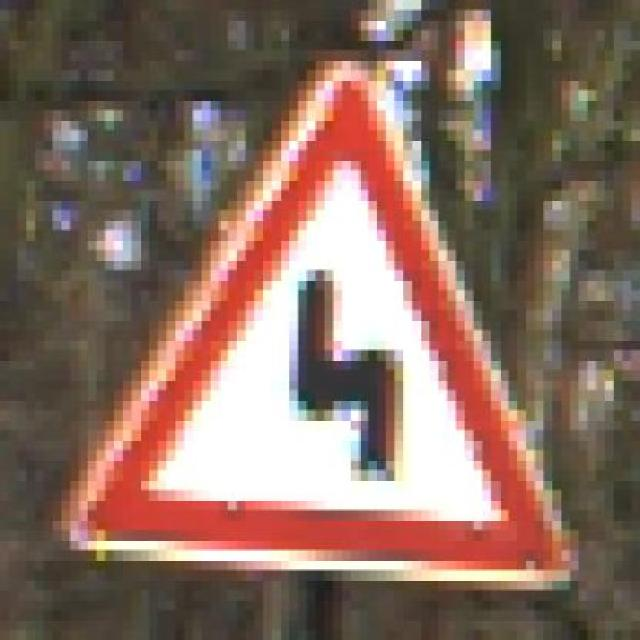Left Zig Zag Traffic: (52, 50, 605, 590)
